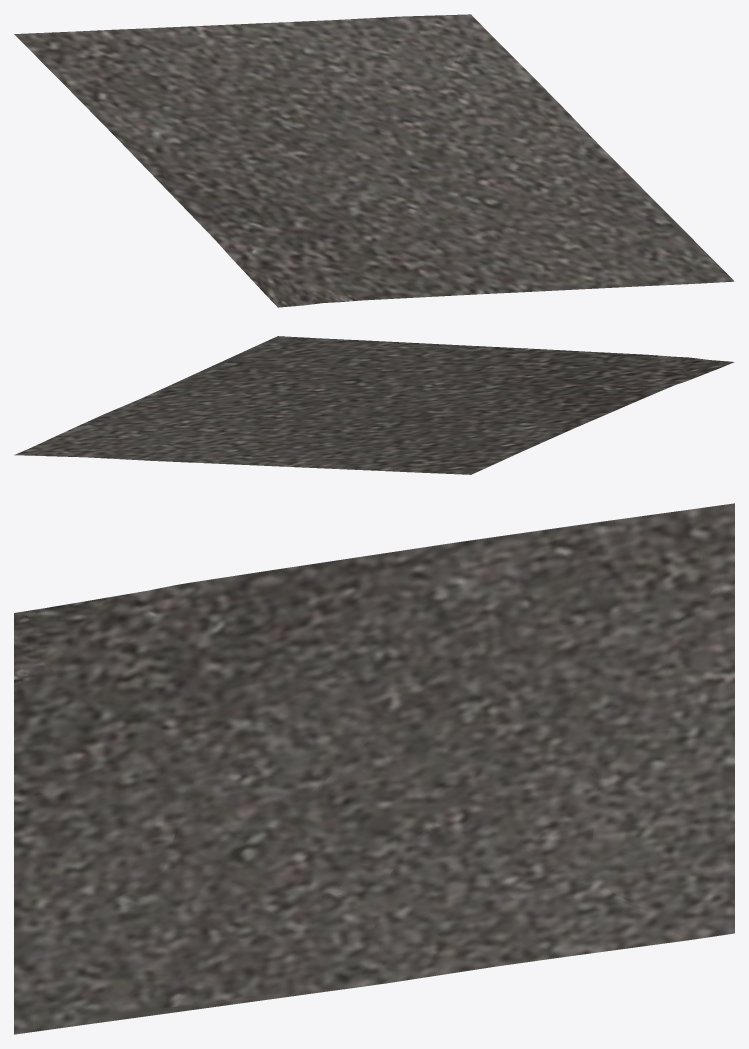
3 renders of one model, top to bottom at view 1: azimuth 30°, elevation 25°; view 2: azimuth 150°, elevation 25°; view 3: azimuth 270°, elevation 25°, orthographic. The views are drawn at different scales.
Bounding box in the file's own units: 0.8374 × 0.2904 × 0.8374.
3 materials, 3 textured.
